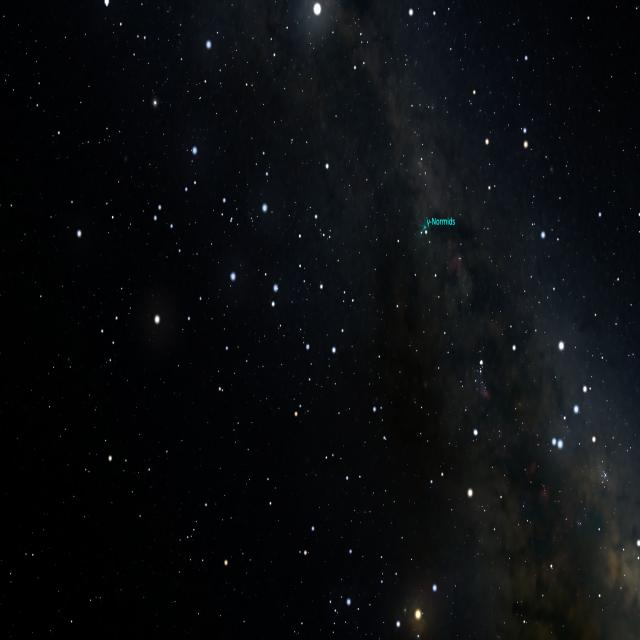Lupus: (213, 139, 407, 501)
